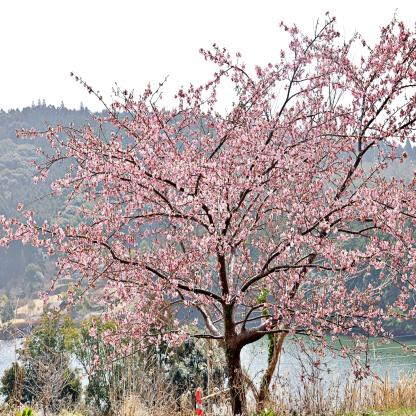KanhiSakura: (0, 8, 416, 415)
